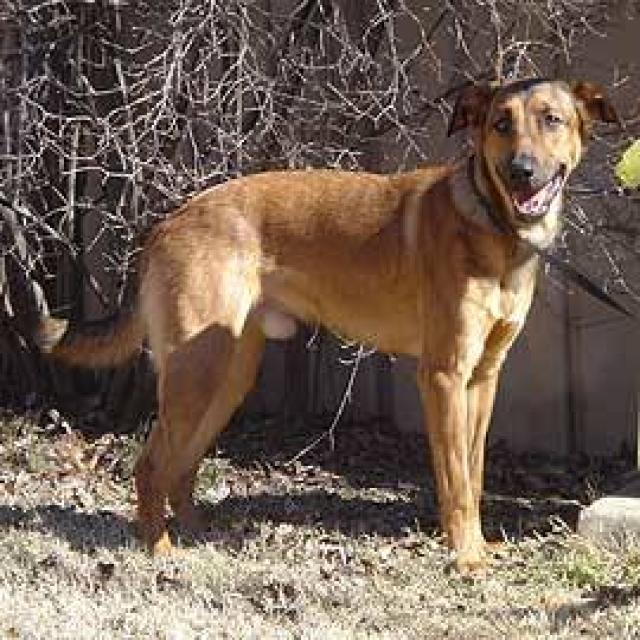dog: (14, 71, 619, 574)
